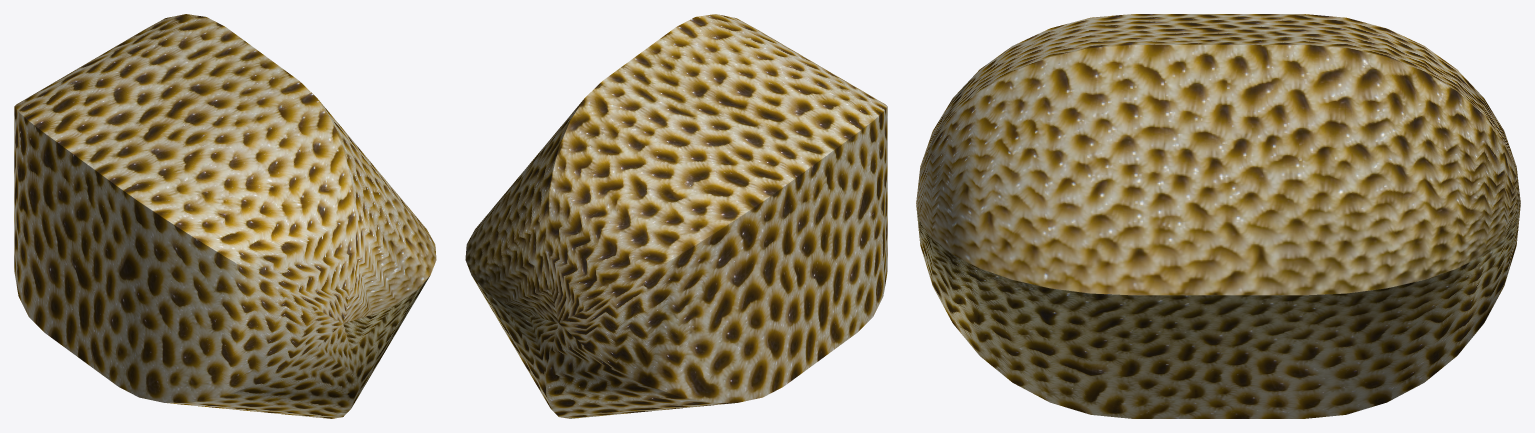
File: rock 3.fbx
3 views of the same model, side by side, from view 1: azimuth 30°, elevation 25°; view 2: azimuth 150°, elevation 25°; view 3: azimuth 270°, elevation 25° (orthographic). The views are drawn at different scales.
Parts seen in each view (by area): view 1: Capsule; view 2: Capsule; view 3: Capsule.
Boxes of the visible parts, x1=… form: Capsule: x1=14, y1=14, x2=436, y2=418; Capsule: x1=465, y1=14, x2=887, y2=418; Capsule: x1=916, y1=14, x2=1520, y2=418.
Size of the model in its own units: 97.51 by 103 by 150.
Materials: 1 (1 with a texture image).
